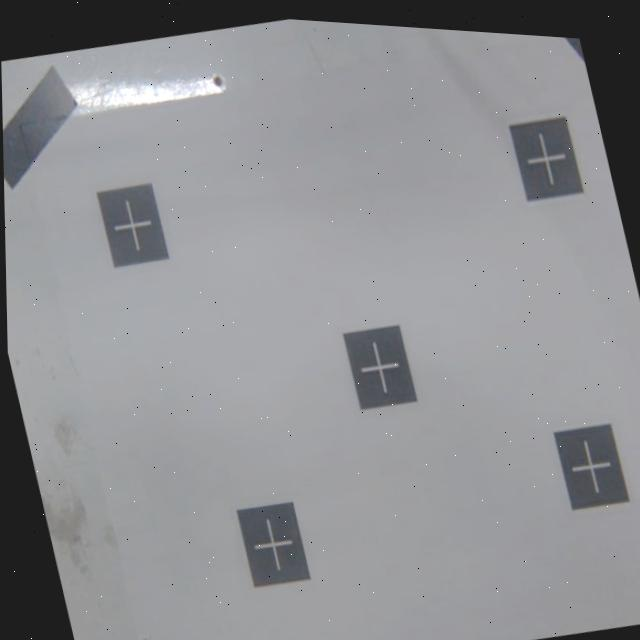dot: (554, 418, 629, 513), (342, 319, 417, 412), (509, 111, 583, 204), (236, 497, 309, 591), (97, 178, 170, 271)
